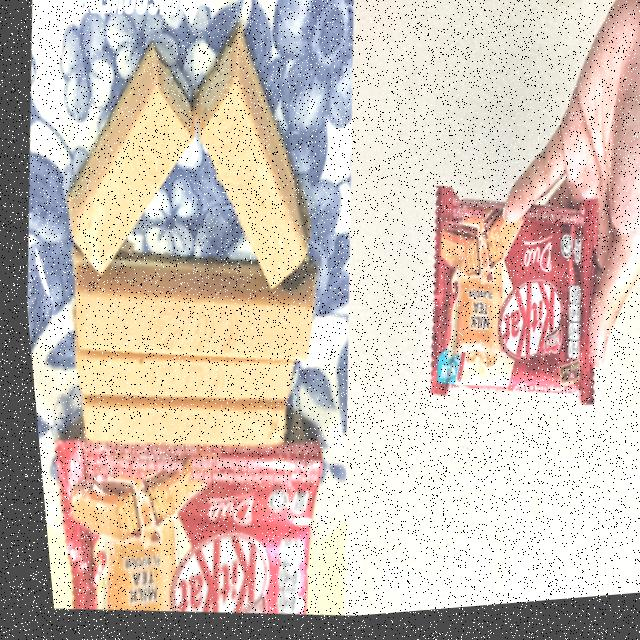kitkat: (30, 416, 314, 633), (409, 187, 604, 421)
